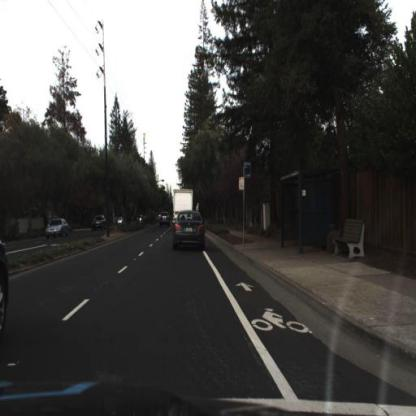car: (1, 232, 17, 336), (173, 207, 208, 254), (45, 218, 70, 241), (160, 210, 174, 231), (159, 209, 172, 230), (94, 215, 107, 232)
truck: (172, 188, 197, 220)
